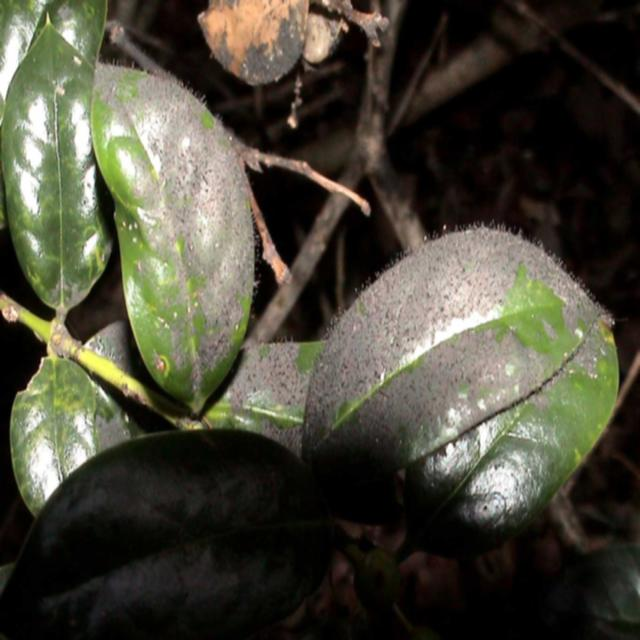Sooty Mold: (300, 220, 620, 553), (31, 9, 266, 377), (0, 426, 334, 640)
